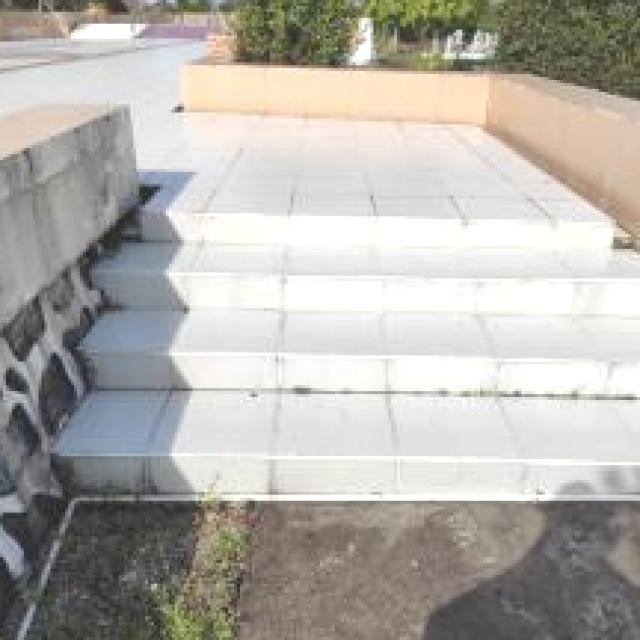upstair: (78, 173, 640, 525)
